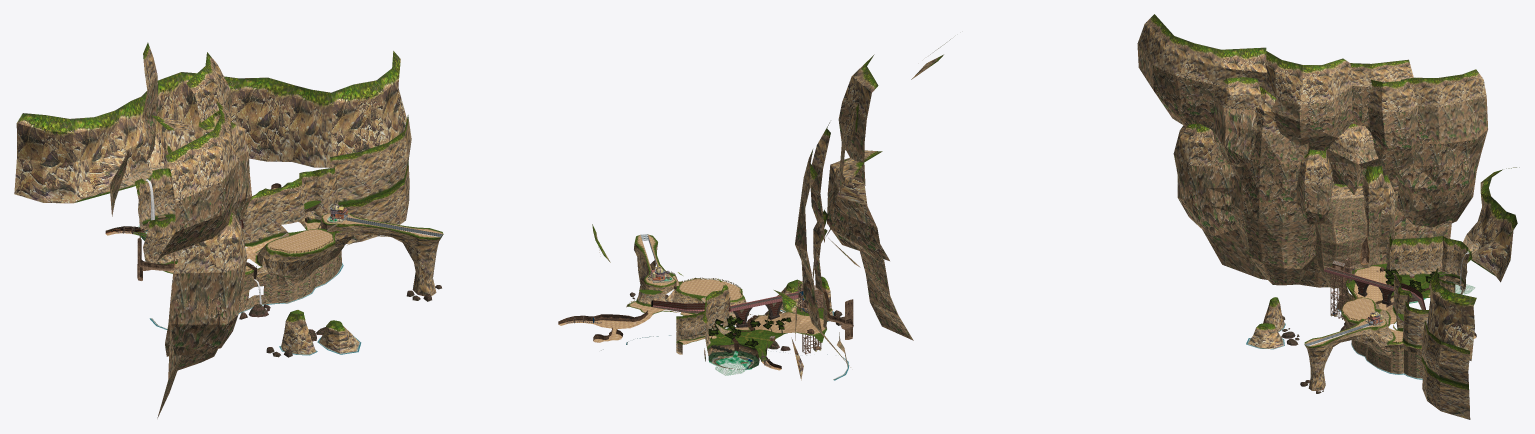
File: mystic_ruins.glb
The picture shows the model from 3 angles, left to right: view 1: azimuth 30°, elevation 25°; view 2: azimuth 150°, elevation 25°; view 3: azimuth 270°, elevation 25°; orthographic projection. The views are drawn at different scales.
Visible parts, largest first — view 1: part1; view 2: part1; view 3: part1.
Boxes of the visible parts, x1,y1,x2,y2 form: part1: (14,42,443,418); part1: (558,39,950,380); part1: (1137,14,1519,419).
Size of the model in its own units: 4868 by 3169 by 4602.
Materials: 123 (123 with a texture image).
